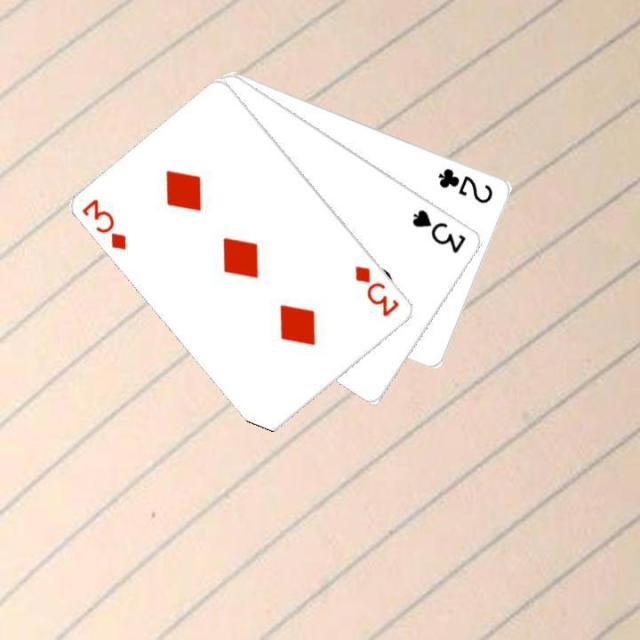2C: (435, 163, 495, 206)
3D: (351, 261, 402, 319), (78, 195, 129, 252)
3S: (408, 205, 468, 255)
